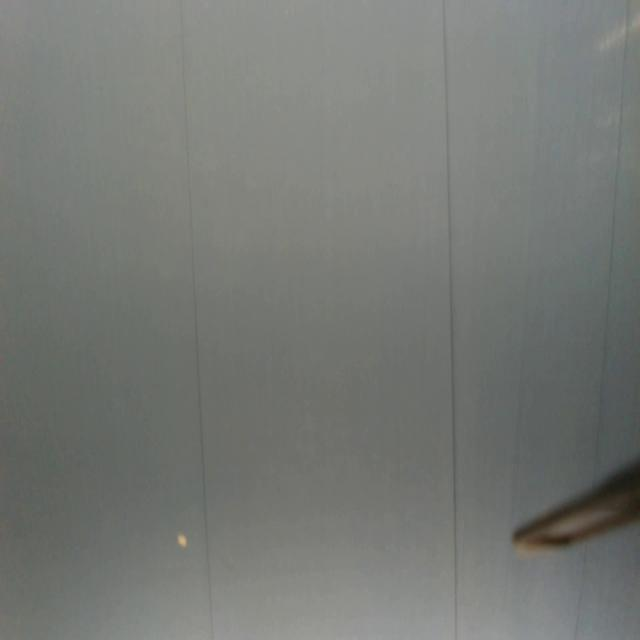crease: (181, 0, 213, 640), (593, 0, 629, 465), (442, 0, 459, 640), (573, 546, 589, 639)
hole: (176, 533, 188, 551)
